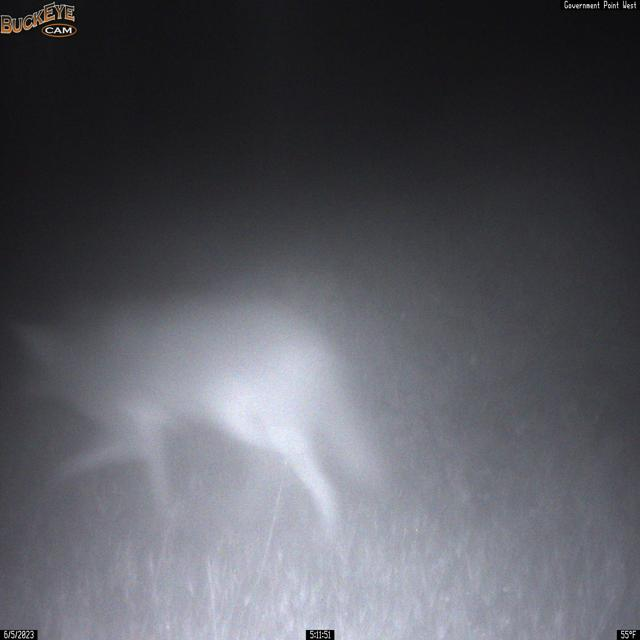coyote: (2, 289, 396, 551)
